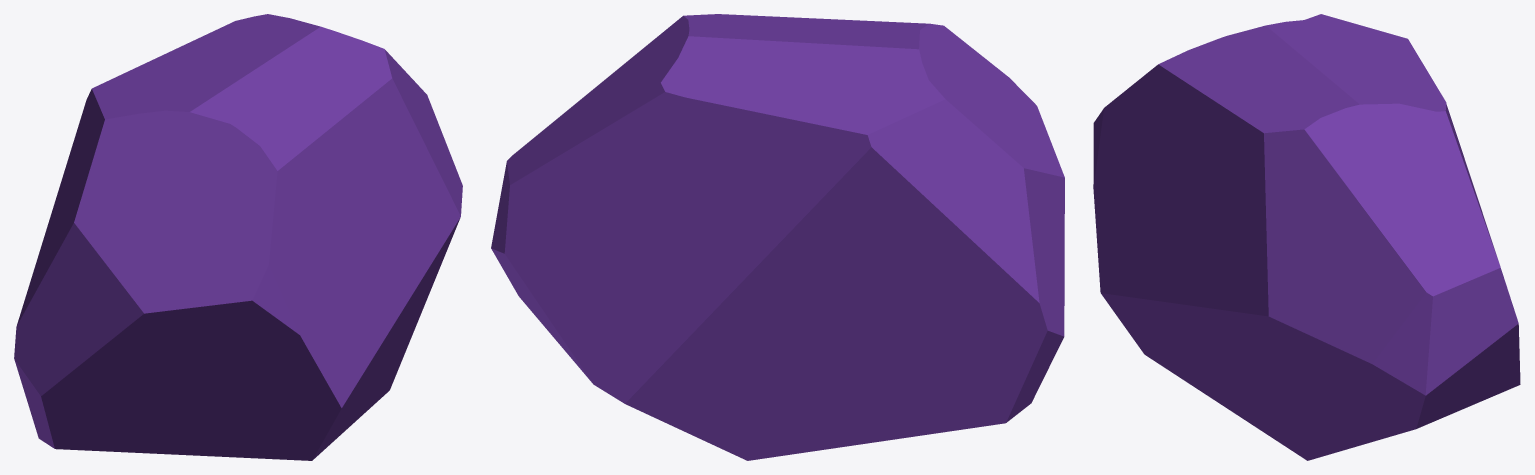
File: rock5.fbx
3 views of the same model, side by side, from view 1: azimuth 30°, elevation 25°; view 2: azimuth 150°, elevation 25°; view 3: azimuth 270°, elevation 25° (orthographic). The views are drawn at different scales.
Parts seen in each view (by area): view 1: Cube_006; view 2: Cube_006; view 3: Cube_006.
Boxes of the visible parts, x1=… form: Cube_006: x1=14, y1=14, x2=462, y2=460; Cube_006: x1=491, y1=14, x2=1064, y2=460; Cube_006: x1=1093, y1=14, x2=1520, y2=460.
Size of the model in its own units: 3.51 by 2.47 by 2.75.
